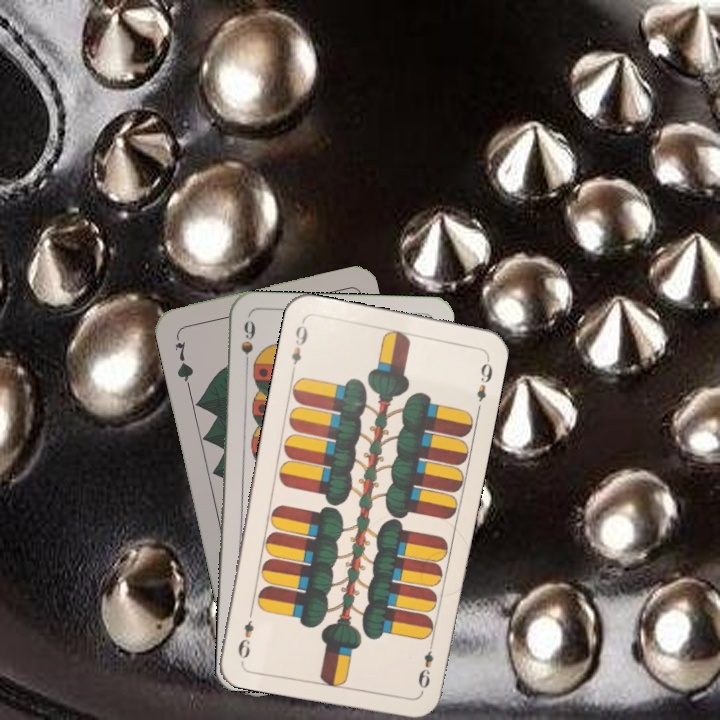E9: (287, 317, 311, 376), (414, 638, 436, 696)
G7: (170, 337, 196, 389)
S9: (237, 317, 258, 375)
